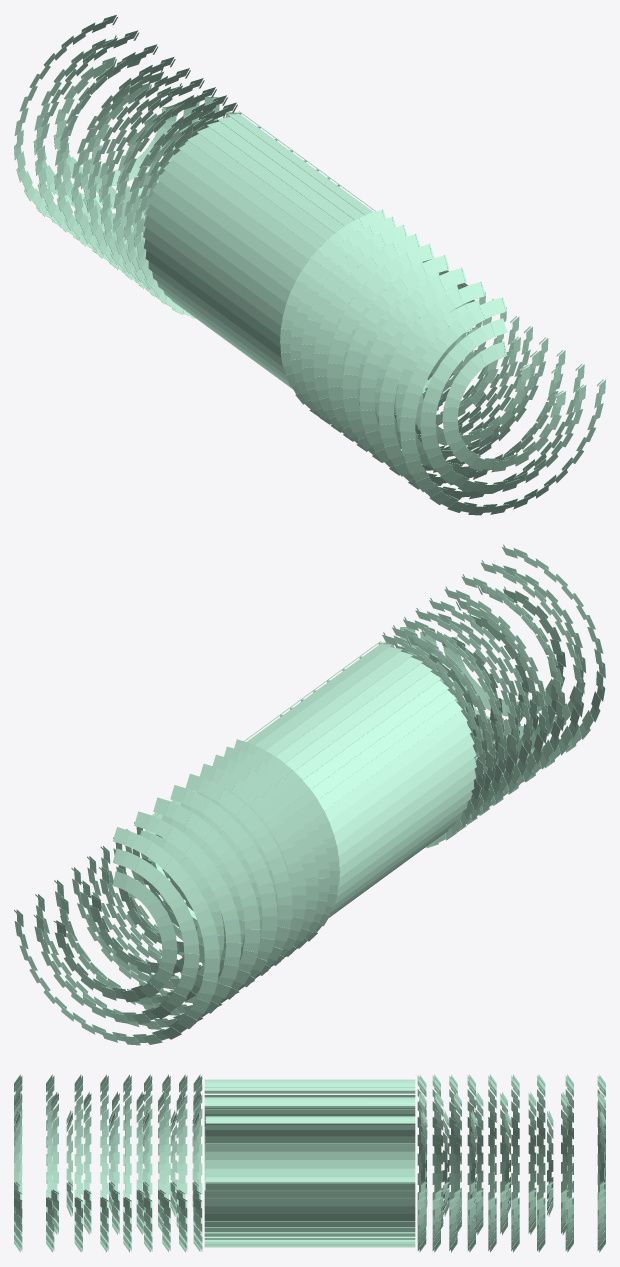
Rendered from ITK-Pixel-Layout-Outer-Barrel-cut3.glb.
The picture shows the model from 3 angles, top to bottom: view 1: azimuth 30°, elevation 25°; view 2: azimuth 150°, elevation 25°; view 3: azimuth 270°, elevation 25°; orthographic projection. The views are drawn at different scales.
Parts seen in each view (by area): view 1: ITK_Pixel_Layout_Outer_Barrel Cut 3; view 2: ITK_Pixel_Layout_Outer_Barrel Cut 3; view 3: ITK_Pixel_Layout_Outer_Barrel Cut 3.
Part boxes in pixels (x1,y1,x2,y2): ITK_Pixel_Layout_Outer_Barrel Cut 3: (14,14,605,515); ITK_Pixel_Layout_Outer_Barrel Cut 3: (14,544,605,1045); ITK_Pixel_Layout_Outer_Barrel Cut 3: (14,1074,605,1252).
Size of the model in its own units: 0.6337 by 0.6337 by 2.1.
